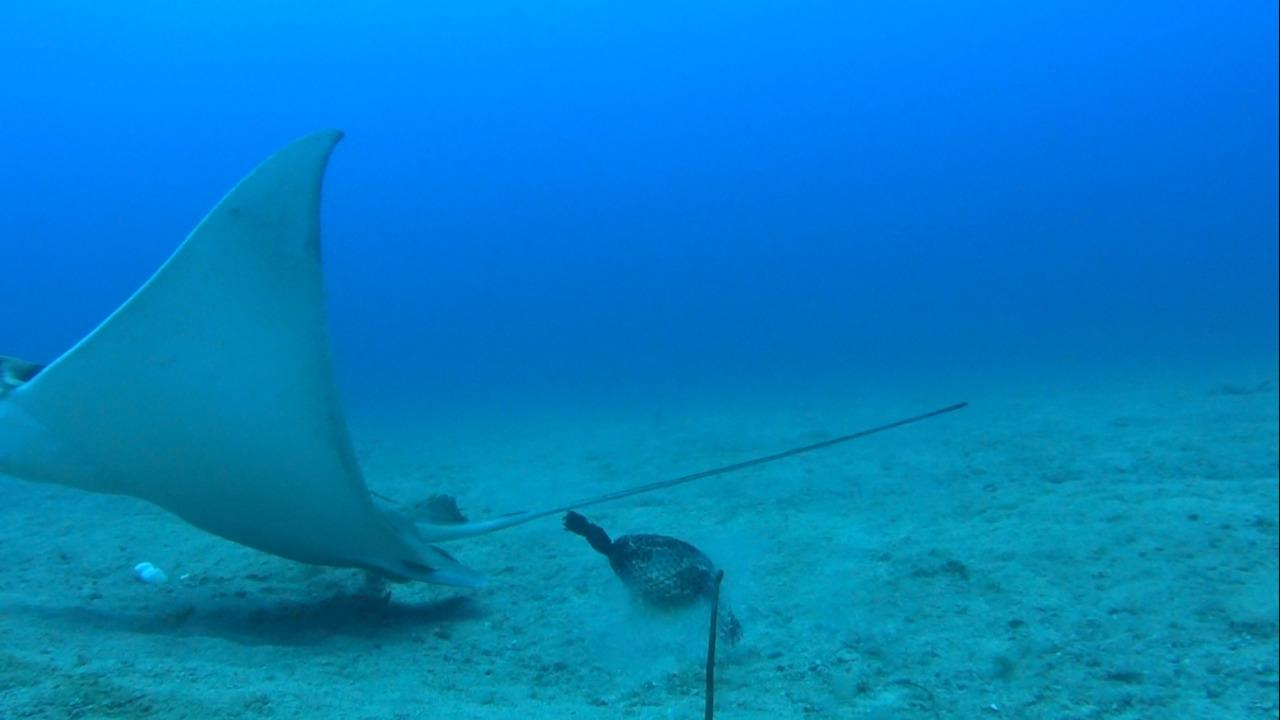myliobatis: (3, 124, 969, 584)
